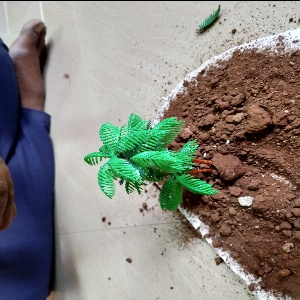plant: (72, 118, 221, 199)
